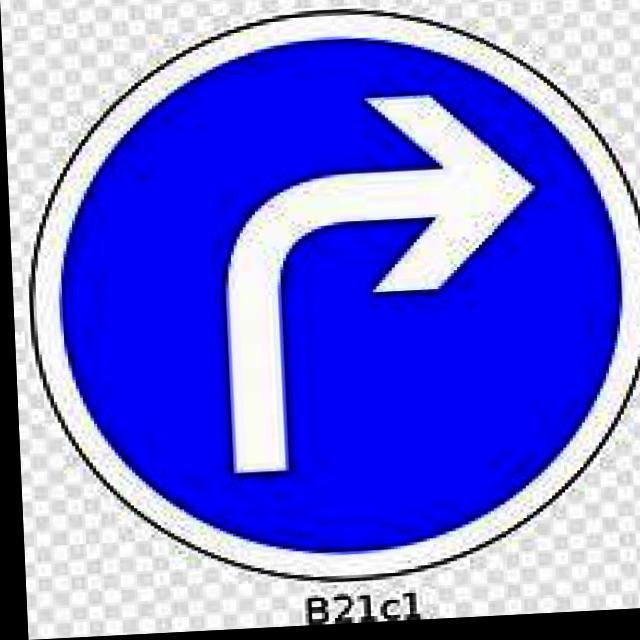COMPULSARY_TURN_RIGHT_AHEAD: (18, 0, 640, 602)
